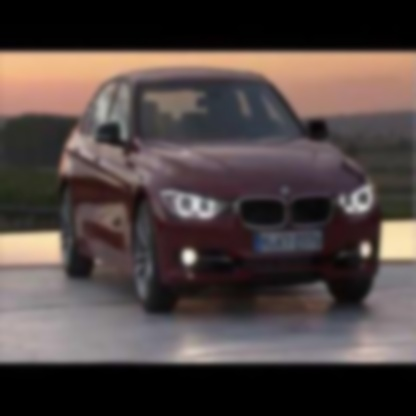Vehicle: (59, 69, 383, 316)
